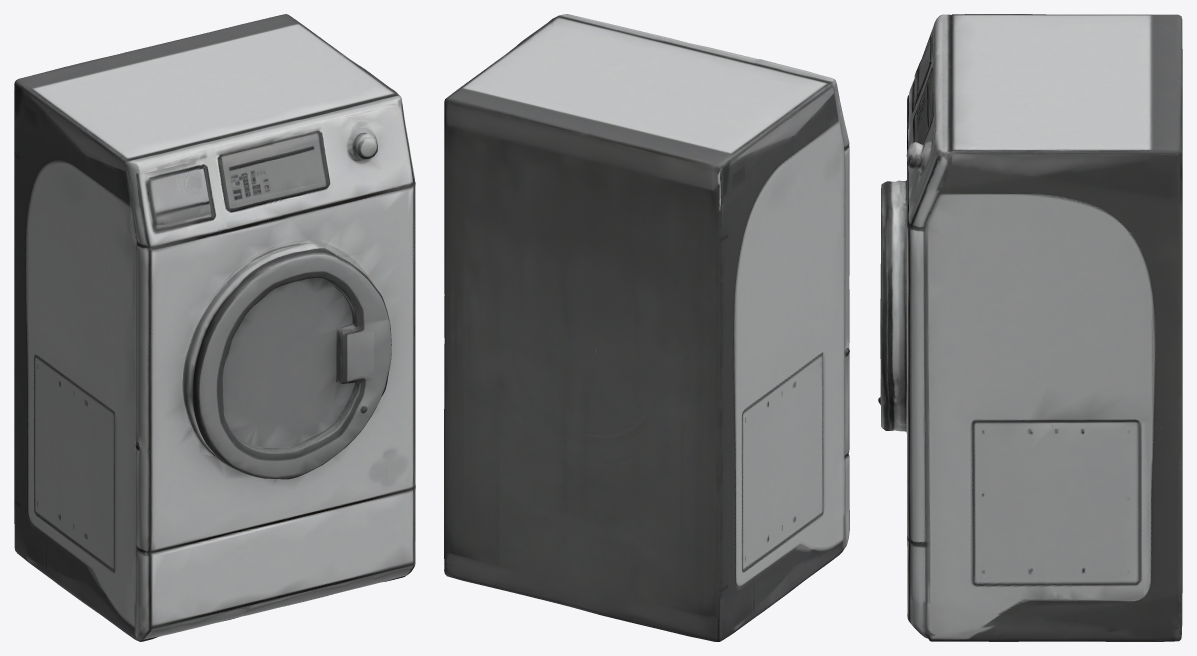
File: WashingMachine.fbx
3 views of the same model, side by side, from view 1: azimuth 30°, elevation 25°; view 2: azimuth 150°, elevation 25°; view 3: azimuth 270°, elevation 25° (orthographic). The views are drawn at different scales.
Visible parts, largest first — view 1: Mesh_0; view 2: Mesh_0; view 3: Mesh_0.
Boxes of the visible parts, left/top/right/bottom form: Mesh_0: left=14, top=14, right=415, bottom=641; Mesh_0: left=444, top=14, right=849, bottom=641; Mesh_0: left=878, top=14, right=1182, bottom=641.
Size of the model in its own units: 122 by 200 by 112.
Materials: 1 (1 with a texture image).
